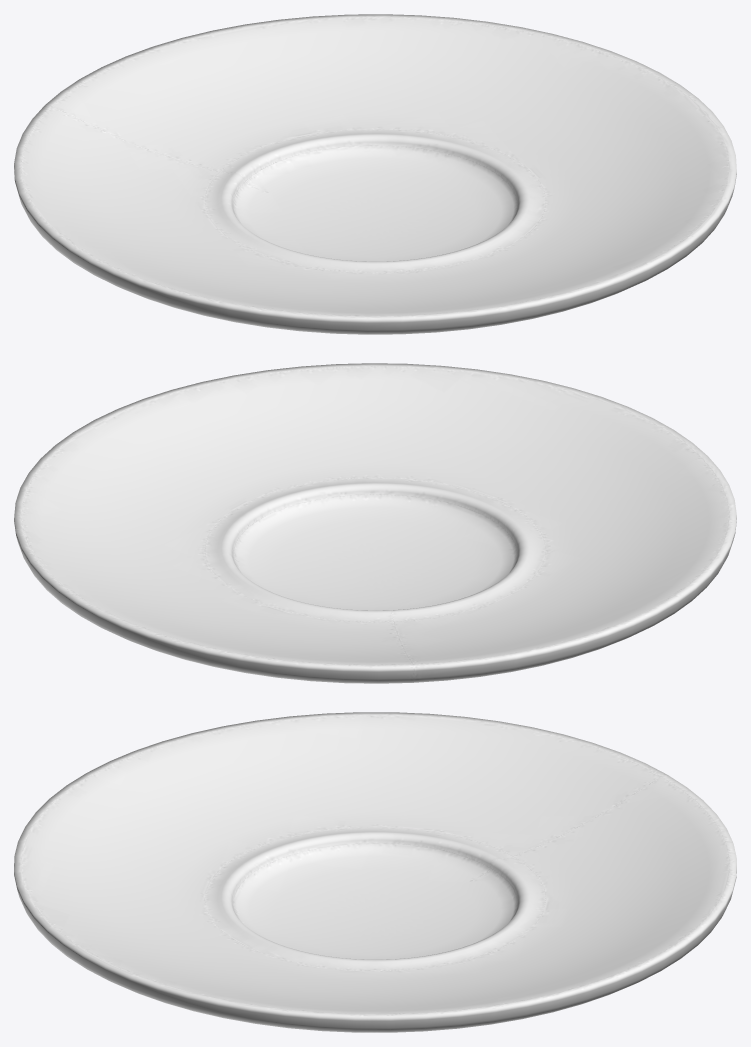
File: coffee_cup_stand-D3vQZNc-.glb
3 renders of one model, top to bottom at view 1: azimuth 30°, elevation 25°; view 2: azimuth 150°, elevation 25°; view 3: azimuth 270°, elevation 25°, orthographic.
Visible parts, largest first — view 1: StudyShelf_2348; view 2: StudyShelf_2348; view 3: StudyShelf_2348.
Boxes of the visible parts, left/top/right/bottom form: StudyShelf_2348: left=14, top=14, right=736, bottom=334; StudyShelf_2348: left=14, top=363, right=736, bottom=683; StudyShelf_2348: left=14, top=712, right=736, bottom=1032.
Bounding box in the file's own units: 23.57 × 2.73 × 23.57.
Materials: 1 (1 with a texture image).
